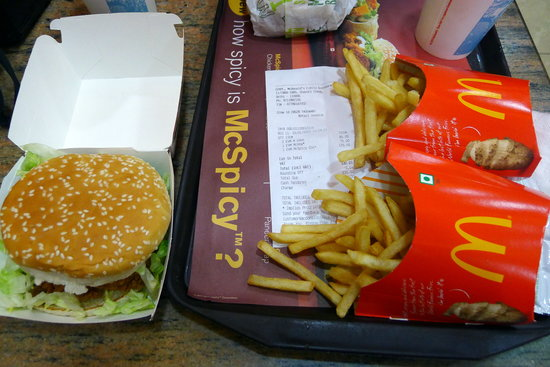mcdonalds: (441, 205, 519, 286), (449, 70, 512, 122)
